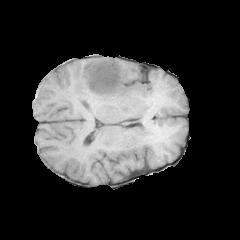glioma: (72, 60, 128, 109)
